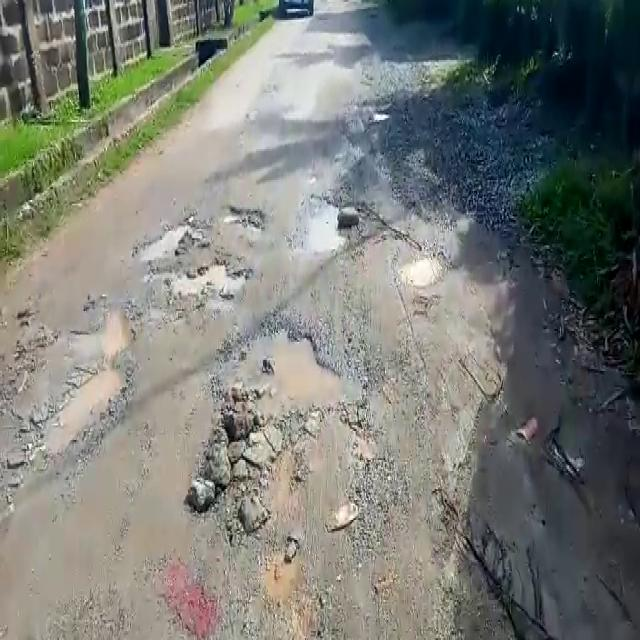Pothole: (203, 318, 372, 438), (30, 362, 133, 458), (164, 256, 249, 304), (131, 210, 197, 258), (304, 200, 348, 253), (97, 304, 136, 357)
